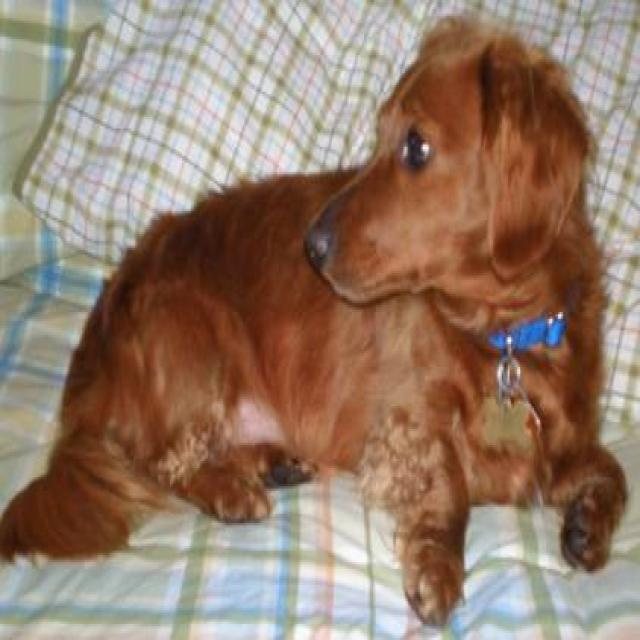Dog: (295, 7, 594, 312)
